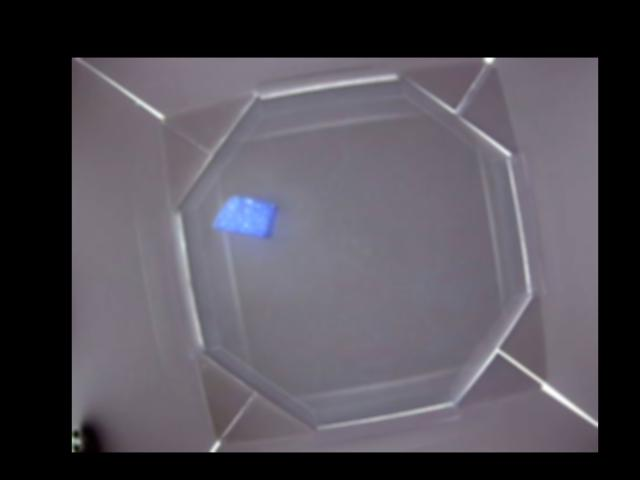Potato: (210, 191, 279, 240)
